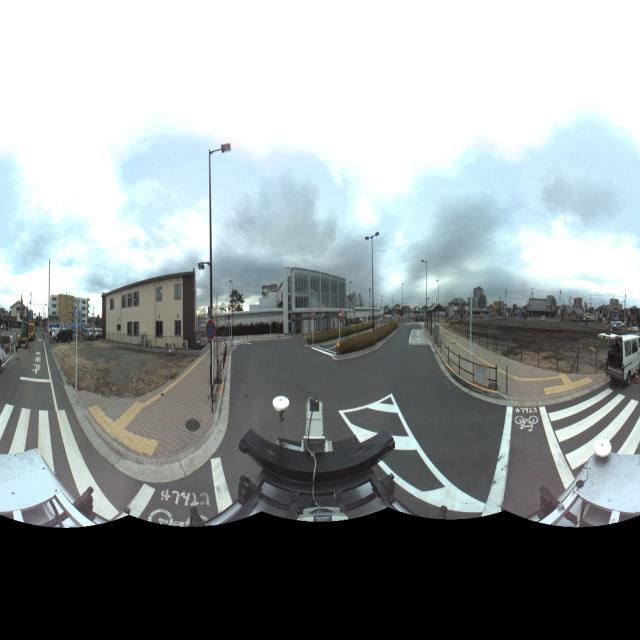b_1: (94, 261, 199, 361), (279, 260, 350, 338), (46, 284, 99, 337)
